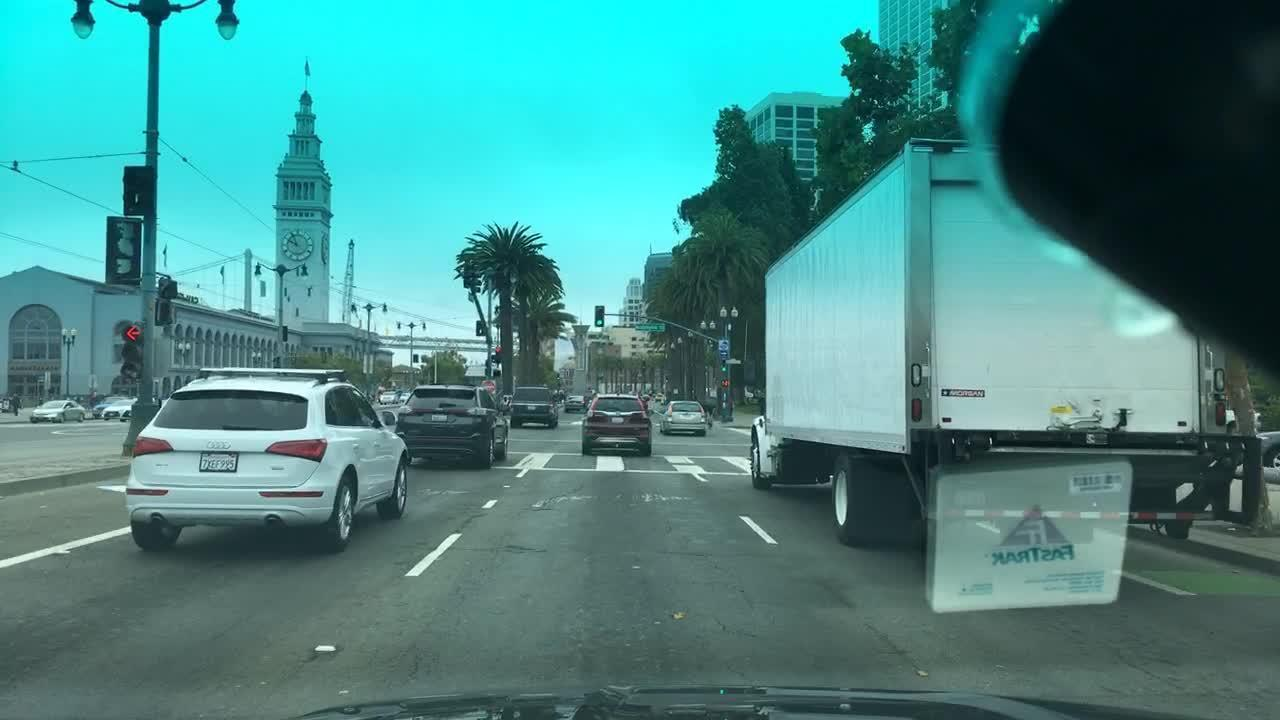Audi: (198, 432, 254, 456)
